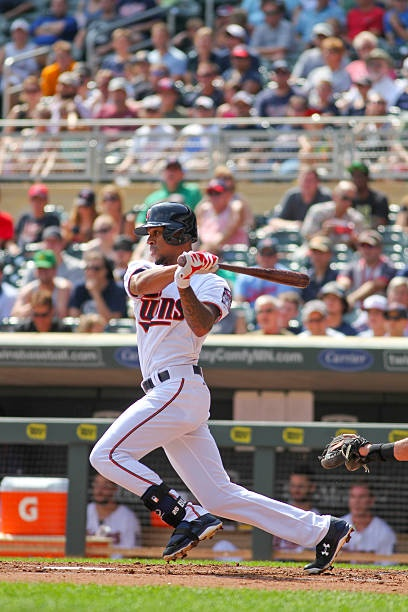bita: (210, 262, 318, 293)
